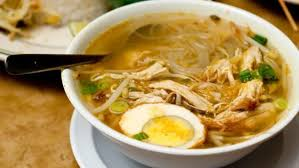soto: (68, 6, 294, 155)
